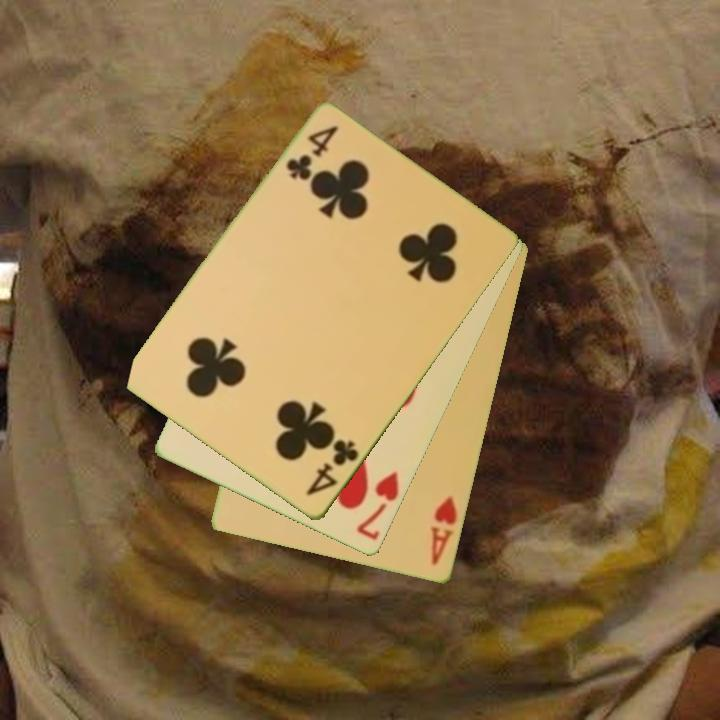4c: (302, 436, 362, 500), (282, 122, 342, 183)
7h: (352, 468, 402, 544)
Ah: (427, 492, 460, 568)
